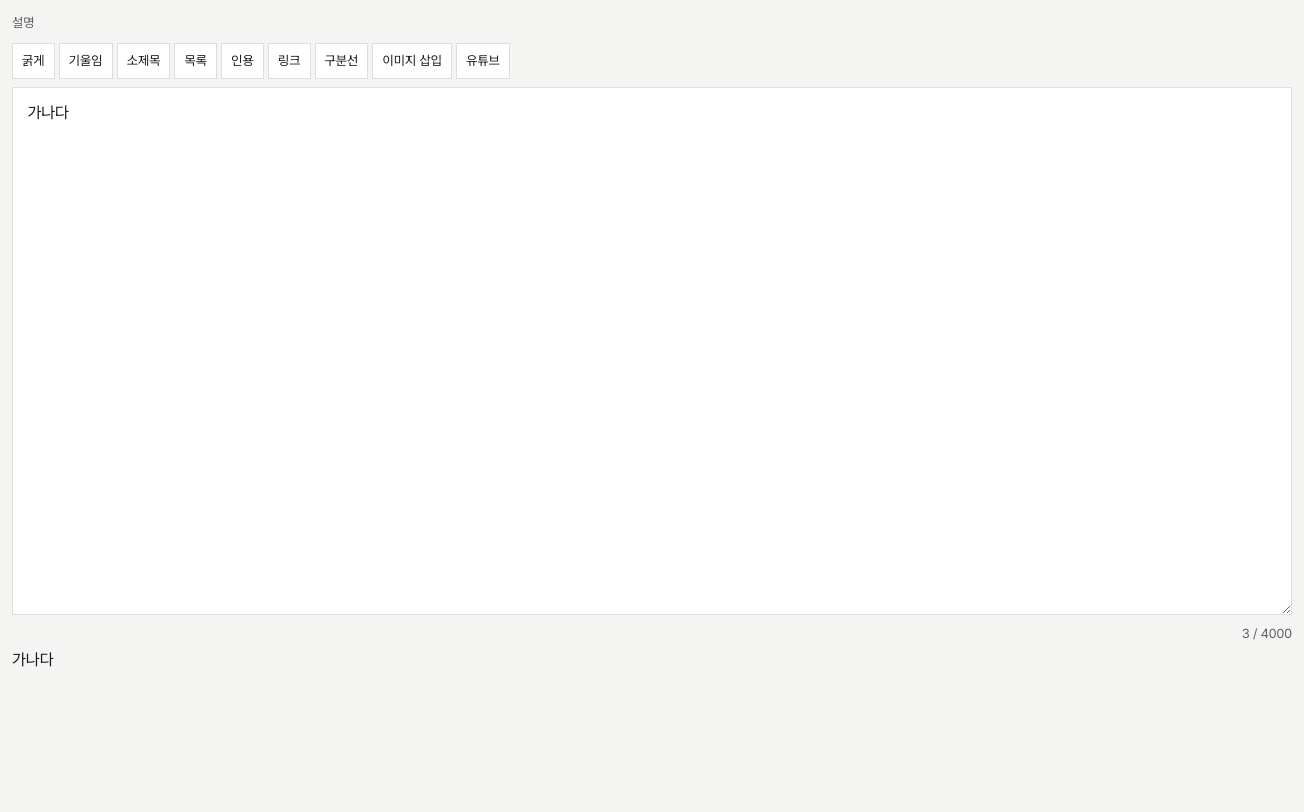
Test case: MarkdownEditor › 굵게 버튼은 선택한 글을 **로 감싼다
The width and height of the screenshot is (1304, 812).
Click the button "굵게": (33, 61) [12,43,55,79]
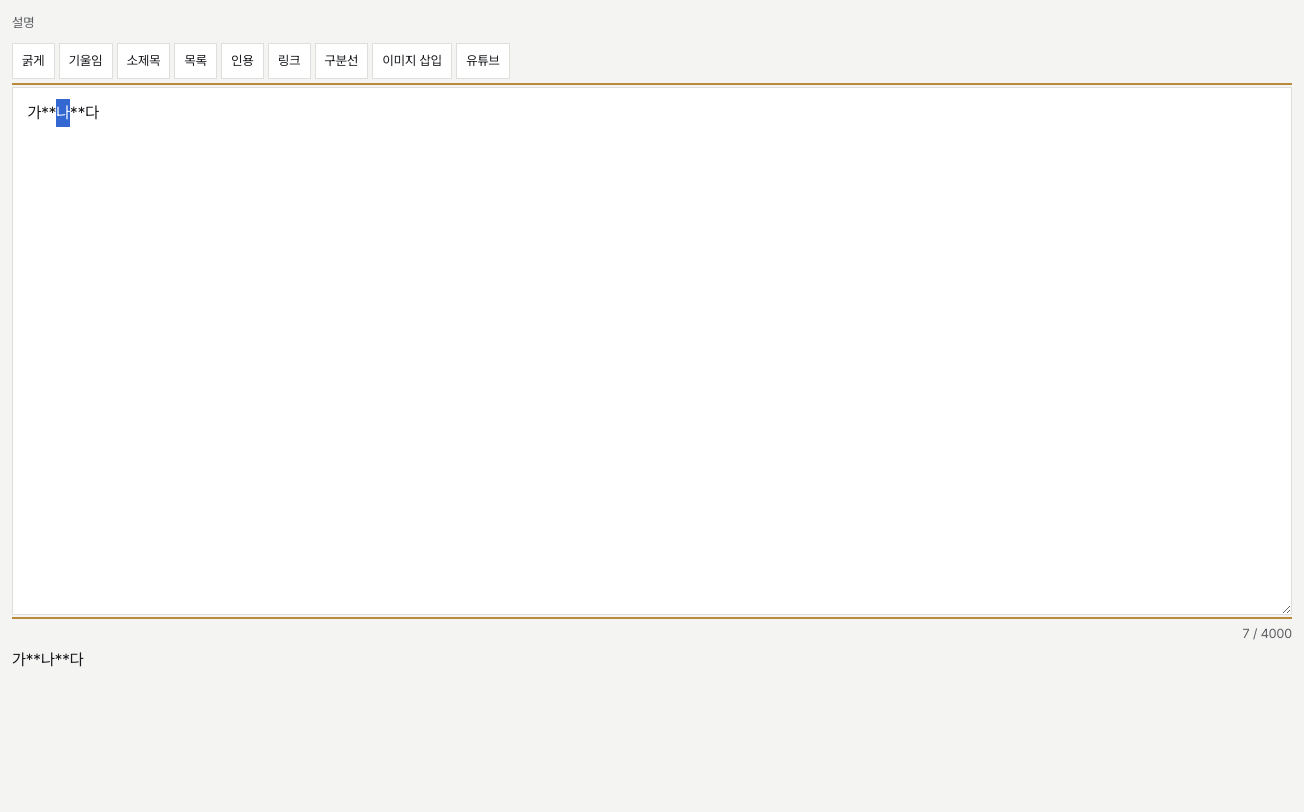
Check: the text with test id "value" reads "가**나**다", box [12,650,84,669]
